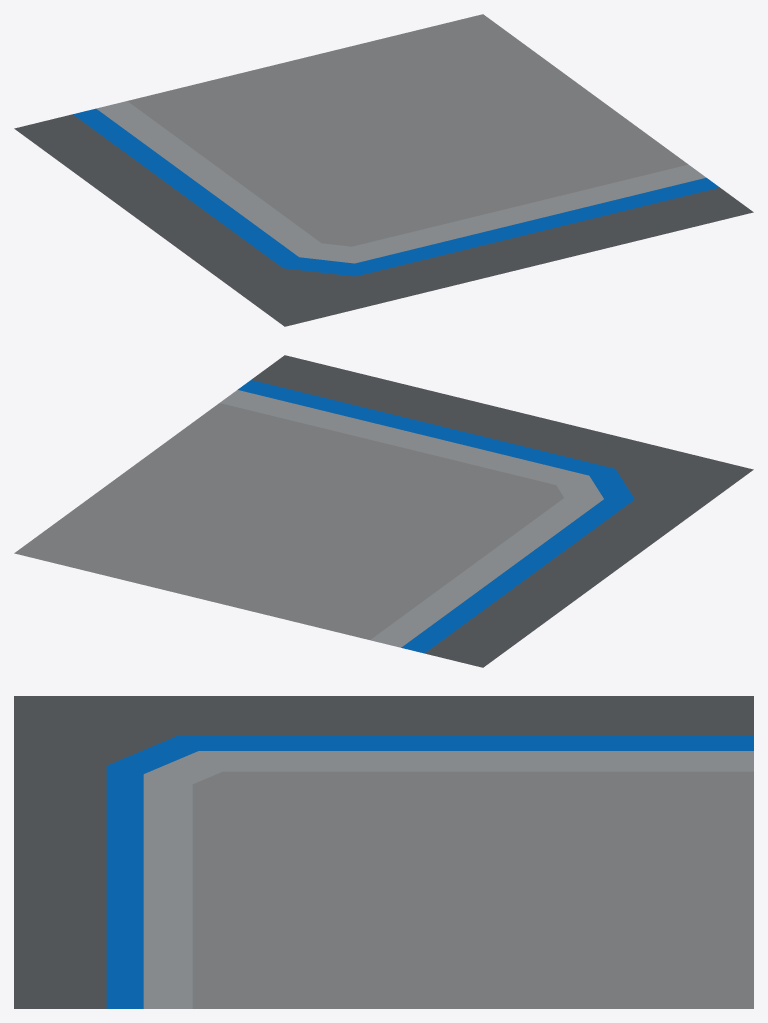
File: Ceiling_type_B_045.fbx
3 views of the same model, one above another, from view 1: azimuth 30°, elevation 25°; view 2: azimuth 150°, elevation 25°; view 3: azimuth 270°, elevation 25° (orthographic). The views are drawn at different scales.
Parts seen in each view (by area): view 1: Ceiling_type_B_045; view 2: Ceiling_type_B_045; view 3: Ceiling_type_B_045.
Boxes of the visible parts, x1=… form: Ceiling_type_B_045: x1=14, y1=14, x2=753, y2=326; Ceiling_type_B_045: x1=14, y1=355, x2=753, y2=667; Ceiling_type_B_045: x1=14, y1=696, x2=753, y2=1008.
Bounding box in the file's own units: 400 × 400 × 3.5.
